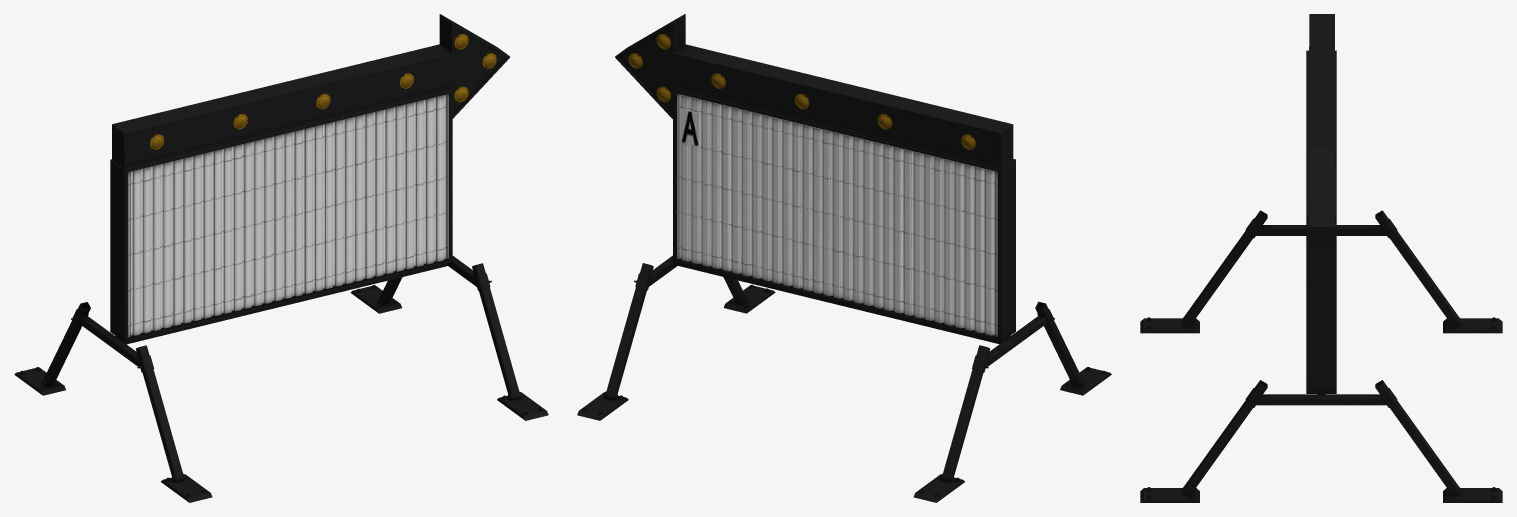
The model's file is marquee_sign.fbx.
3 renders of one model, left to right at view 1: azimuth 30°, elevation 25°; view 2: azimuth 150°, elevation 25°; view 3: azimuth 270°, elevation 25°, orthographic. The views are drawn at different scales.
Visible parts, largest first — view 1: marquee, arrow, stand; view 2: marquee, arrow, stand, letter_a; view 3: stand, arrow, marquee.
Boxes of the visible parts, left/top/right/bottom form: marquee: left=110, top=89, right=452, bottom=342; arrow: left=112, top=14, right=509, bottom=168; stand: left=14, top=256, right=548, bottom=502; marquee: left=673, top=89, right=1015, bottom=342; arrow: left=615, top=14, right=1013, bottom=168; stand: left=577, top=255, right=1111, bottom=502; letter_a: left=681, top=109, right=699, bottom=146; stand: left=1140, top=210, right=1502, bottom=502; arrow: left=1309, top=14, right=1334, bottom=247; marquee: left=1306, top=50, right=1336, bottom=393.
Bounding box in the file's own units: 258 × 206 × 194.
